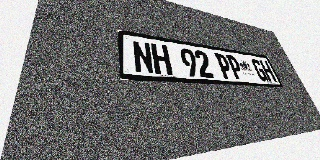2: (193, 50, 214, 78)
9: (179, 47, 200, 77)
G: (250, 59, 269, 82)
H: (150, 43, 173, 75), (259, 60, 277, 82)
N: (132, 40, 155, 74)
P: (214, 53, 234, 79), (225, 55, 245, 80)
